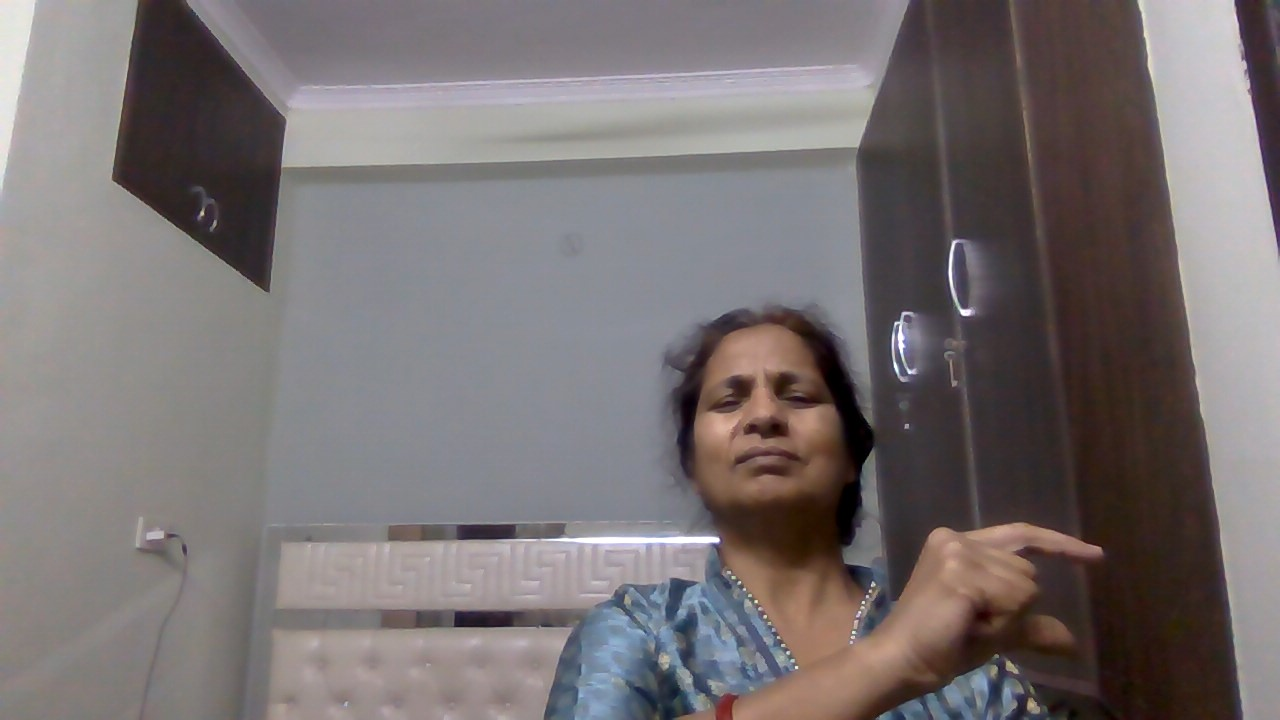Paste: (870, 508, 1120, 708)
